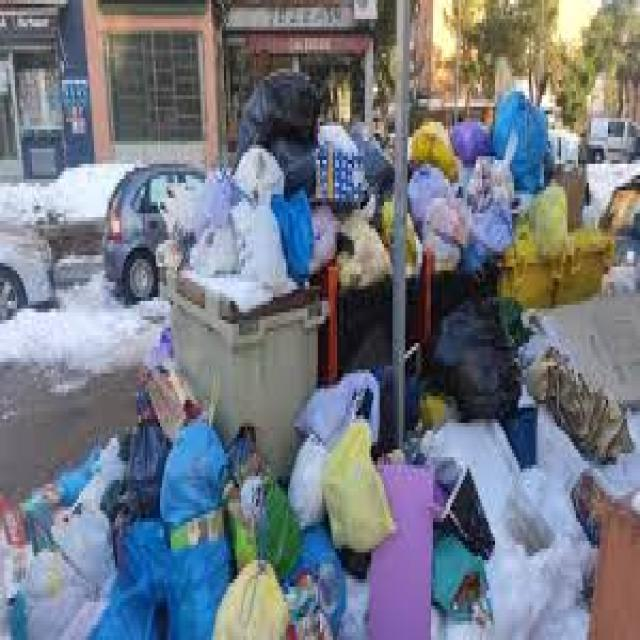garbage: (0, 391, 640, 639), (236, 60, 395, 303), (408, 88, 558, 274), (156, 144, 314, 318)
